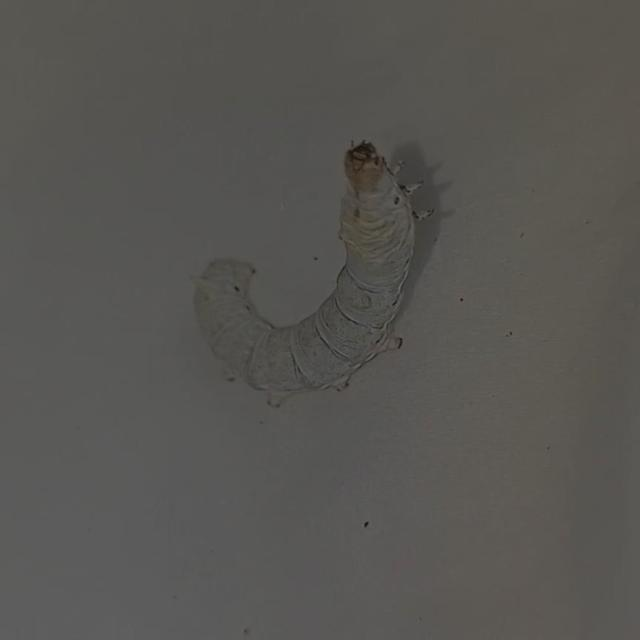Healthy: (179, 134, 441, 408)
